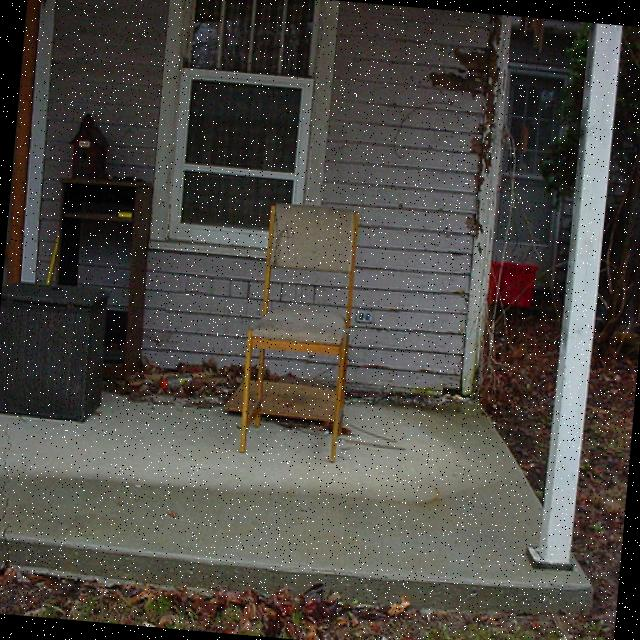Chair: (199, 180, 395, 484)
